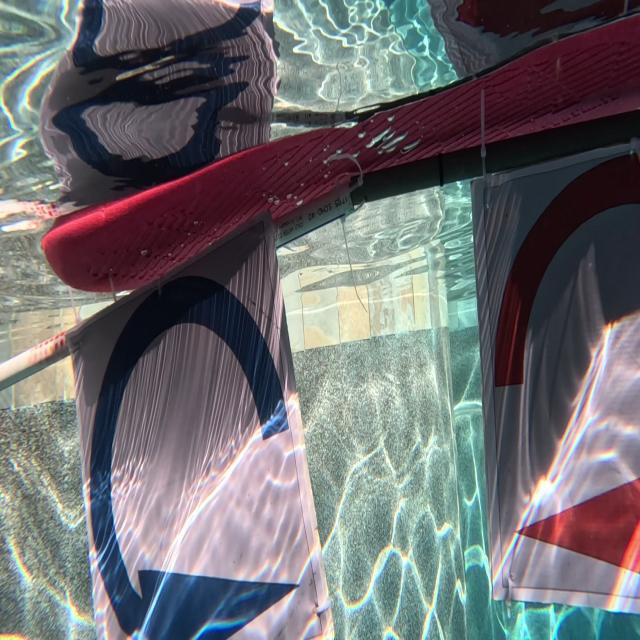blue_side: (81, 255, 302, 640)
red_side: (485, 147, 640, 603)
